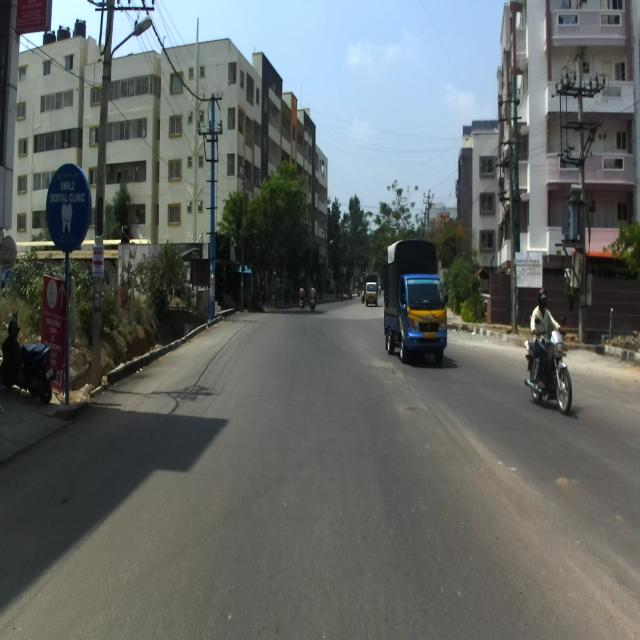car ahead at: (378, 238, 454, 370)
electric pole ahead at: (84, 0, 158, 386), (198, 86, 229, 327)
motorcycle ahead at: (524, 329, 575, 419)
